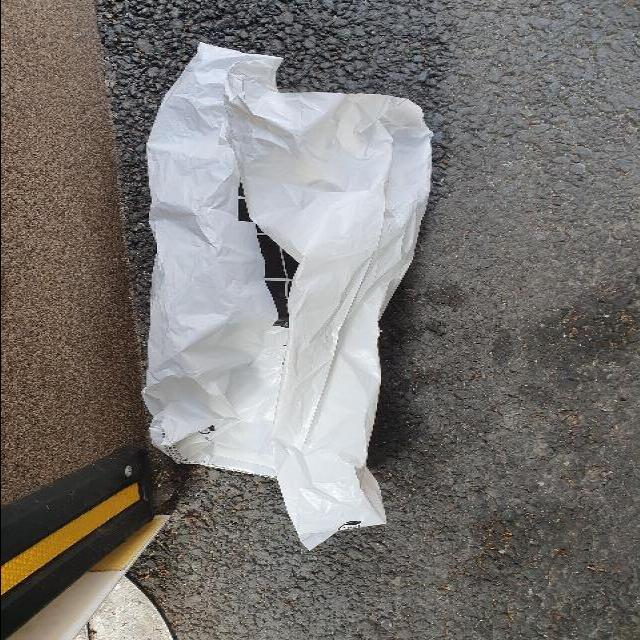plastic bag: (137, 40, 436, 550)
